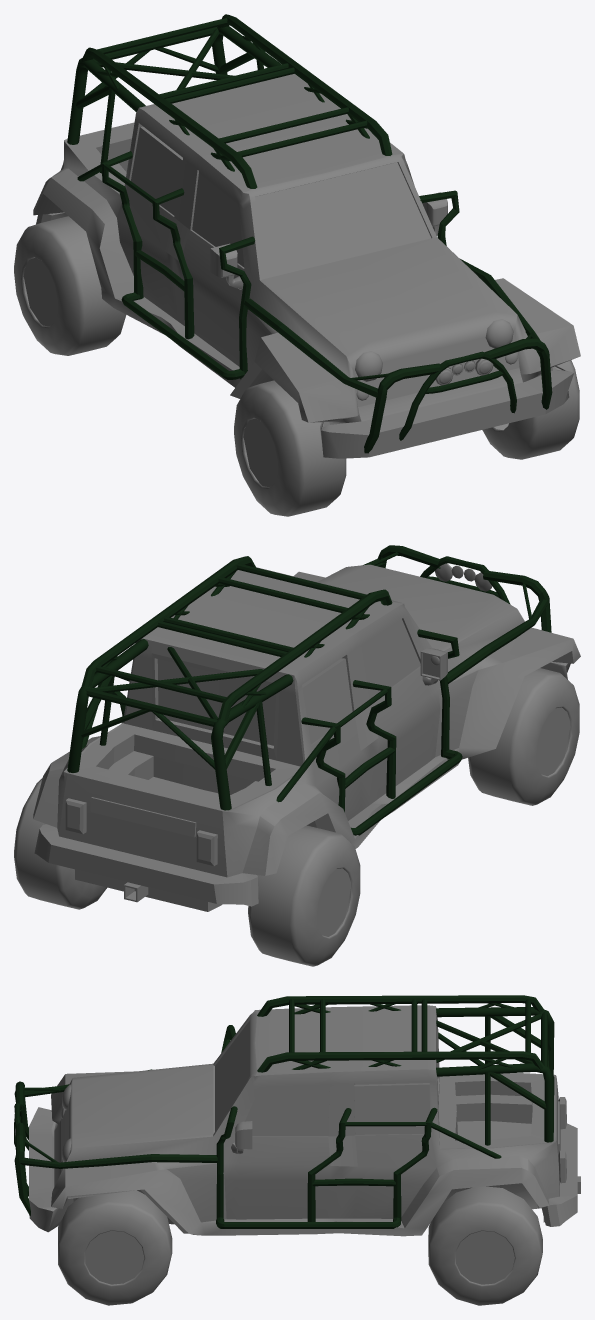
The picture shows the model from 3 angles, top to bottom: view 1: azimuth 30°, elevation 25°; view 2: azimuth 150°, elevation 25°; view 3: azimuth 270°, elevation 25°; orthographic projection. The views are drawn at different scales.
Parts seen in each view (by area): view 1: CutBody (×2), Wheel_B_L, Wheel_F_L, JeepRubiconFull:MainBodyGeometryJeepBars, Wheel_F_R, pCylinder16, pCylinder1, pCylinder3, pCylinder4, pCylinder39, polySurface13, pCylinder2 (+9 smaller); view 2: CutBody, Wheel_B_L, Wheel_F_L, JeepRubiconFull:MainBodyGeometryJeepBars, Wheel_B_R, pCylinder16, pCylinder1, pCylinder22, pCylinder3, polySurface13, pCylinder39, pCylinder18 (+12 smaller); view 3: CutBody, Wheel_B_R, Wheel_F_R, JeepRubiconFull:MainBodyGeometryJeepBars, pCylinder16, pCylinder3, polySurface13, pCylinder1, pCylinder4, pCylinder22, pCylinder39, pCylinder9 (+4 smaller).
Boxes of the visible parts, bbox=[...] form: CutBody (×2): bbox=[33, 74, 580, 458]; Wheel_B_L: bbox=[14, 216, 126, 355]; Wheel_F_L: bbox=[234, 380, 346, 516]; JeepRubiconFull:MainBodyGeometryJeepBars: bbox=[81, 14, 392, 188]; Wheel_F_R: bbox=[482, 360, 579, 459]; pCylinder16: bbox=[67, 26, 281, 144]; pCylinder1: bbox=[364, 338, 552, 453]; pCylinder3: bbox=[244, 259, 540, 397]; pCylinder4: bbox=[219, 190, 459, 379]; pCylinder39: bbox=[152, 188, 194, 339]; polySurface13: bbox=[121, 292, 244, 379]; pCylinder2: bbox=[399, 351, 516, 440]; CutBody: bbox=[33, 564, 580, 911]; Wheel_B_L: bbox=[248, 825, 360, 966]; Wheel_F_L: bbox=[468, 668, 579, 805]; JeepRubiconFull:MainBodyGeometryJeepBars: bbox=[81, 556, 392, 721]; Wheel_B_R: bbox=[14, 778, 106, 909]; pCylinder16: bbox=[67, 639, 293, 810]; pCylinder1: bbox=[377, 545, 551, 632]; pCylinder22: bbox=[89, 647, 262, 719]; pCylinder3: bbox=[363, 559, 548, 683]; polySurface13: bbox=[351, 749, 462, 835]; pCylinder39: bbox=[353, 680, 396, 798]; pCylinder18: bbox=[85, 688, 217, 726]; CutBody: bbox=[29, 1005, 580, 1236]; Wheel_B_R: bbox=[428, 1186, 542, 1305]; Wheel_F_R: bbox=[58, 1190, 172, 1305]; JeepRubiconFull:MainBodyGeometryJeepBars: bbox=[257, 995, 543, 1072]; pCylinder16: bbox=[436, 1007, 554, 1142]; pCylinder3: bbox=[19, 1069, 217, 1168]; polySurface13: bbox=[216, 1217, 400, 1228]; pCylinder1: bbox=[14, 1081, 30, 1215]; pCylinder4: bbox=[216, 1025, 237, 1217]; pCylinder22: bbox=[436, 1013, 542, 1063]; pCylinder39: bbox=[307, 1108, 351, 1221]; pCylinder9: bbox=[393, 1107, 437, 1220].
Size of the model in its own units: 1.02 by 0.8807 by 2.
